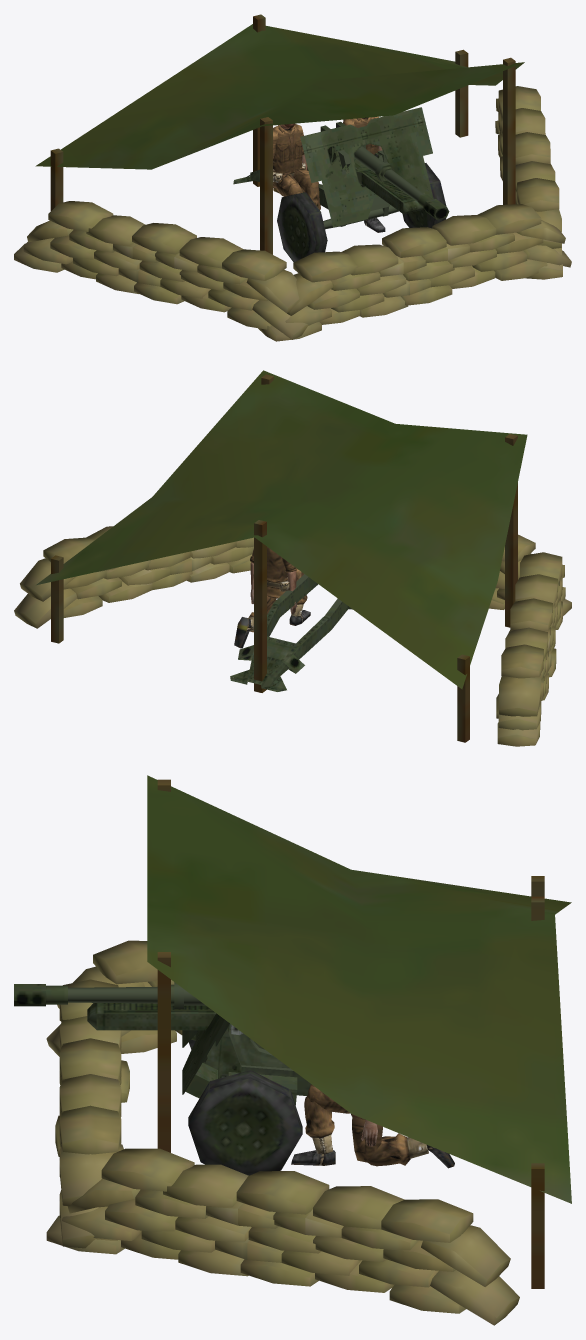
File: GBR25pdr_Stationary.dae
3 views of the same model, one above another, from view 1: azimuth 30°, elevation 25°; view 2: azimuth 150°, elevation 25°; view 3: azimuth 270°, elevation 25° (orthographic). The views are drawn at different scales.
Parts seen in each view (by area): view 1: base, carriage, barrel, torso1, sleeve, rthigh1; view 2: base, carriage, torso2; view 3: base, carriage, barrel, sleeve, lleg2, rleg2, lthigh2.
Part boxes in pixels (x1,y1,x2,y2): base: [14, 14, 571, 341]; carriage: [233, 107, 446, 262]; barrel: [320, 121, 449, 219]; torso1: [273, 125, 305, 188]; sleeve: [332, 152, 423, 213]; rthigh1: [274, 173, 302, 196]; base: [14, 370, 571, 746]; carriage: [230, 574, 352, 691]; torso2: [253, 547, 289, 597]; base: [46, 775, 571, 1325]; carriage: [182, 1013, 311, 1175]; barrel: [14, 982, 205, 1009]; sleeve: [87, 1003, 229, 1031]; lleg2: [363, 1133, 428, 1166]; rleg2: [304, 1095, 334, 1154]; lthigh2: [352, 1116, 382, 1162].
Size of the model in its own units: 51.33 by 32.85 by 18.15.
